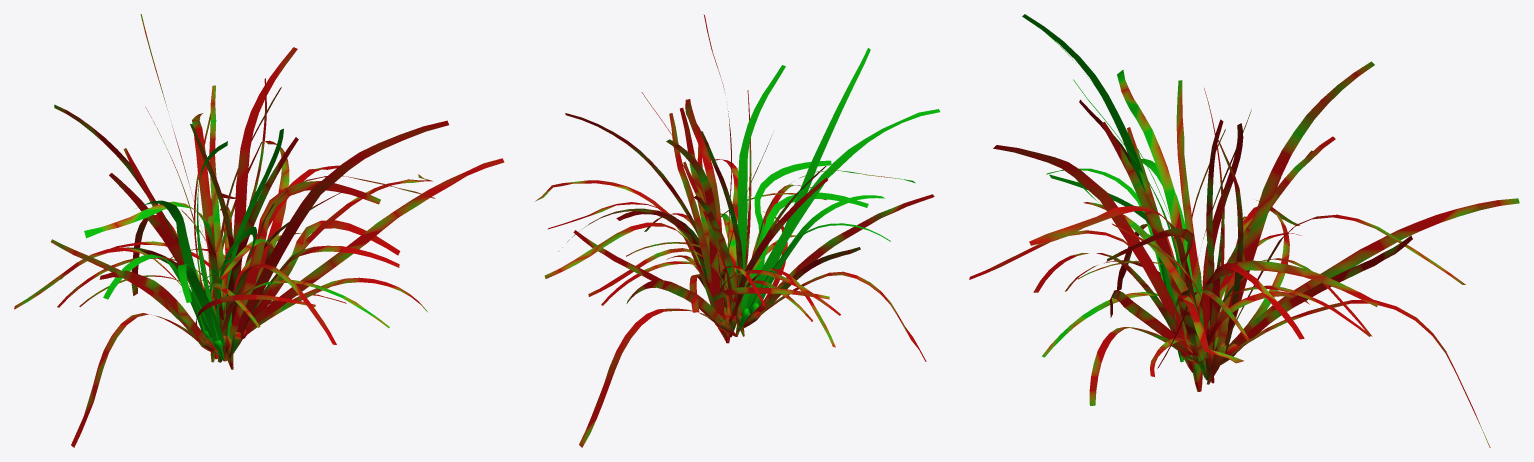
File: test_plant.glb
3 renders of one model, left to right at view 1: azimuth 30°, elevation 25°; view 2: azimuth 150°, elevation 25°; view 3: azimuth 270°, elevation 25°, orthographic. The views are drawn at different scales.
Visible parts, largest first — view 1: _d4a2_Var1_LOD0; view 2: _d4a2_Var1_LOD0; view 3: _d4a2_Var1_LOD0.
Boxes of the visible parts, bbox=[...] form: _d4a2_Var1_LOD0: bbox=[14, 14, 504, 447]; _d4a2_Var1_LOD0: bbox=[535, 14, 940, 447]; _d4a2_Var1_LOD0: bbox=[969, 14, 1519, 447].
Bounding box in the file's own units: 7.92 × 6.05 × 8.15.
